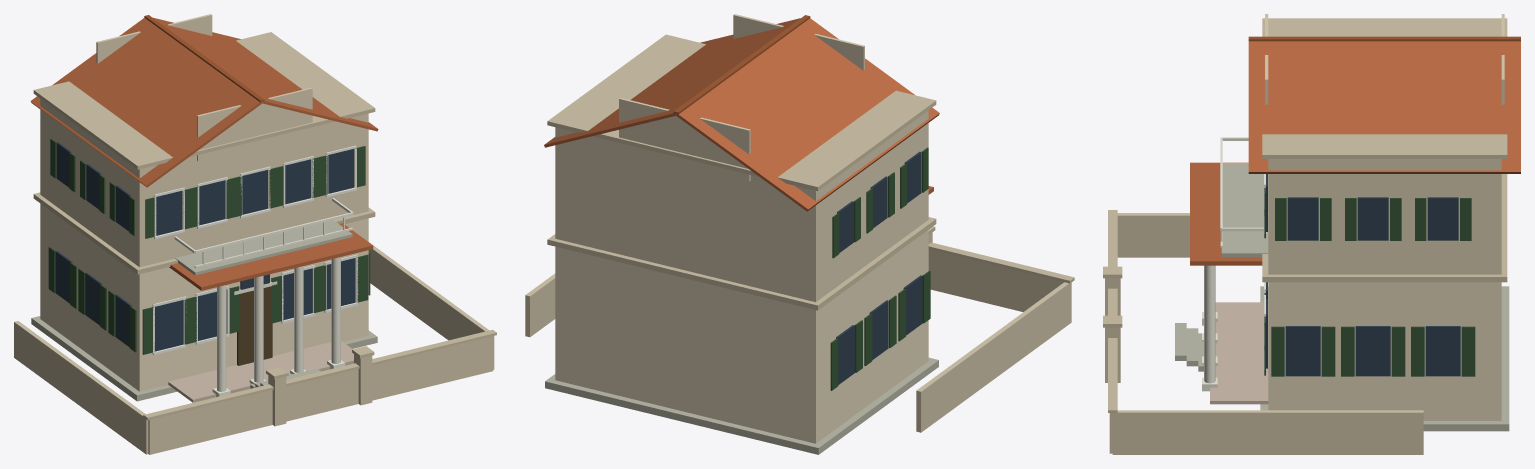
File: french-villa.glb
3 renders of one model, left to right at view 1: azimuth 30°, elevation 25°; view 2: azimuth 150°, elevation 25°; view 3: azimuth 270°, elevation 25°, orthographic. The views are drawn at different scales.
Visible parts, largest first — view 1: Mesh_SecondFloor, Mesh_MainBuilding, Mesh_RoofHipLeft, Mesh_GardenWallFront, Mesh_UpperCornice, Mesh_GardenWallLeft, Mesh_RoofHipRight, Mesh_GardenWallRight, Mesh_GableFront, Mesh_PorchRoof, Mesh_PorchFloor, Mesh_BalconyFloor (+35 smaller); view 2: Mesh_MainBuilding, Mesh_SecondFloor, Mesh_RoofHipLeft, Mesh_UpperCornice, Mesh_GardenWallLeft, Mesh_RoofHipRight, Mesh_GableBack, Mesh_Foundation, Mesh_GardenWallFront, Mesh_Cornice, Mesh_GableFront, Mesh_GardenWallRight (+8 smaller); view 3: Mesh_RoofHipRight, Mesh_MainBuilding, Mesh_SecondFloor, Mesh_GardenWallRight, Mesh_UpperCornice, Mesh_PorchFloor, Mesh_BalconyFloor, Mesh_PorchRoof, Mesh_GardenWallLeft, Mesh_Cornice, Mesh_Foundation, Mesh_SideWinR_G0 (+23 smaller).
Boxes of the visible parts, <box> form: Mesh_SecondFloor: <box>40,99,368,267</box>; Mesh_MainBuilding: <box>40,203,368,391</box>; Mesh_RoofHipLeft: <box>30,18,263,187</box>; Mesh_GardenWallFront: <box>148,336,493,454</box>; Mesh_UpperCornice: <box>33,32,375,169</box>; Mesh_GardenWallLeft: <box>14,321,148,454</box>; Mesh_RoofHipRight: <box>153,17,378,131</box>; Mesh_GardenWallRight: <box>368,242,494,369</box>; Mesh_GableFront: <box>197,87,312,161</box>; Mesh_PorchRoof: <box>169,223,373,290</box>; Mesh_PorchFloor: <box>168,341,353,402</box>; Mesh_BalconyFloor: <box>175,220,352,275</box>; Mesh_MainBuilding: <box>555,230,928,443</box>; Mesh_SecondFloor: <box>555,110,928,302</box>; Mesh_RoofHipLeft: <box>674,18,939,211</box>; Mesh_UpperCornice: <box>547,34,936,191</box>; Mesh_GardenWallLeft: <box>916,282,1071,432</box>; Mesh_RoofHipRight: <box>544,18,800,147</box>; Mesh_GableBack: <box>619,98,750,181</box>; Mesh_Foundation: <box>545,357,938,454</box>; Mesh_GardenWallFront: <box>928,249,1063,311</box>; Mesh_Cornice: <box>547,217,936,310</box>; Mesh_GableFront: <box>733,14,864,70</box>; Mesh_GardenWallRight: <box>525,273,555,337</box>; Mesh_RoofHipRight: <box>1248,41,1520,173</box>; Mesh_MainBuilding: <box>1268,282,1501,420</box>; Mesh_SecondFloor: <box>1268,159,1501,274</box>; Mesh_GardenWallRight: <box>1112,410,1423,454</box>; Mesh_UpperCornice: <box>1262,18,1507,158</box>; Mesh_PorchFloor: <box>1210,302,1268,404</box>; Mesh_BalconyFloor: <box>1221,163,1268,256</box>; Mesh_PorchRoof: <box>1190,162,1262,265</box>; Mesh_GardenWallLeft: <box>1117,213,1189,257</box>; Mesh_Cornice: <box>1262,174,1507,282</box>; Mesh_Foundation: <box>1260,286,1509,431</box>; Mesh_SideWinR_G0: <box>1425,326,1460,376</box>.
Size of the model in its own units: 12.2 by 9.2 by 10.75.
